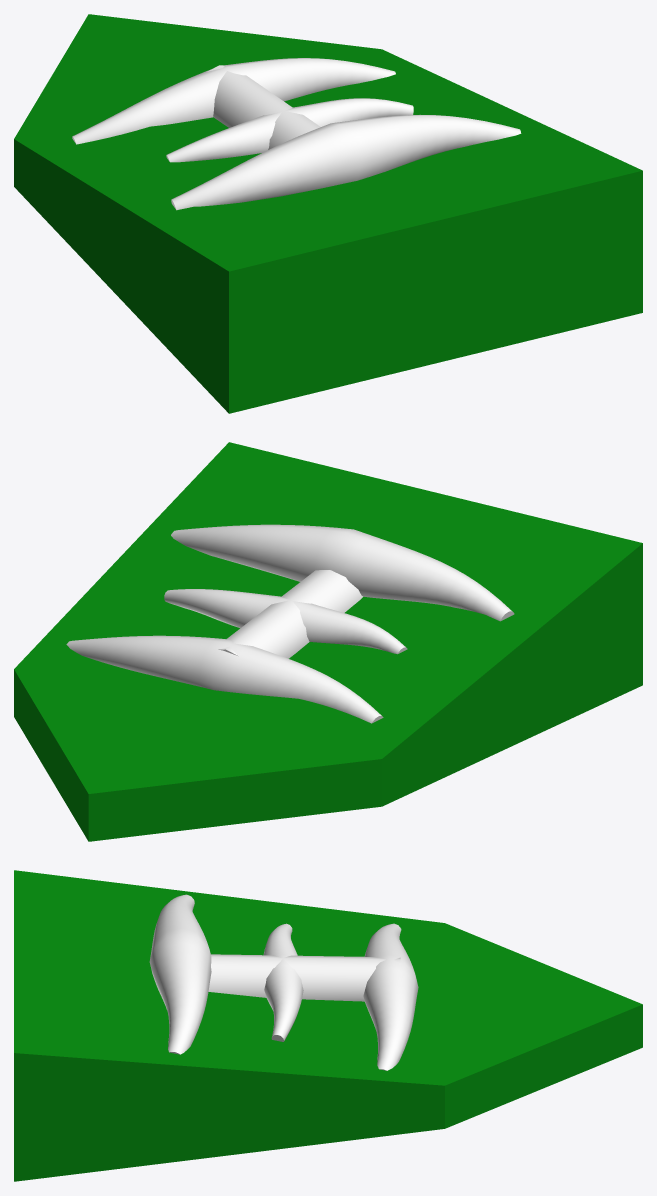
Rendered from piece_king_green.gltf.
3 views of the same model, one above another, from view 1: azimuth 30°, elevation 25°; view 2: azimuth 150°, elevation 25°; view 3: azimuth 270°, elevation 25° (orthographic). The views are drawn at different scales.
Visible parts, largest first — view 1: Cube, ベジエカーブ.002, ベジエカーブ, ベジエカーブ.001, ベジエカーブ.003; view 2: Cube, ベジエカーブ.002, ベジエカーブ, ベジエカーブ.001, ベジエカーブ.003; view 3: Cube, ベジエカーブ.002, ベジエカーブ.003, ベジエカーブ, ベジエカーブ.001.
Part boxes in pixels (box(x1,y1,x2,y2)): Cube: box(14, 14, 642, 413); ベジエカーブ.002: box(171, 114, 521, 210); ベジエカーブ: box(72, 58, 395, 144); ベジエカーブ.001: box(166, 98, 413, 162); ベジエカーブ.003: box(207, 65, 320, 149); Cube: box(14, 442, 642, 841); ベジエカーブ.002: box(171, 524, 514, 621); ベジエカーブ: box(66, 635, 383, 723); ベジエカーブ.001: box(164, 589, 407, 654); ベジエカーブ.003: box(218, 570, 363, 658); Cube: box(14, 870, 642, 1181); ベジエカーブ.002: box(149, 894, 211, 1054); ベジエカーブ.003: box(208, 954, 400, 1001); ベジエカーブ: box(363, 923, 418, 1070); ベジエカーブ.001: box(263, 923, 303, 1041).
Size of the model in its own units: 0.6994 by 0.3086 by 1.02.
